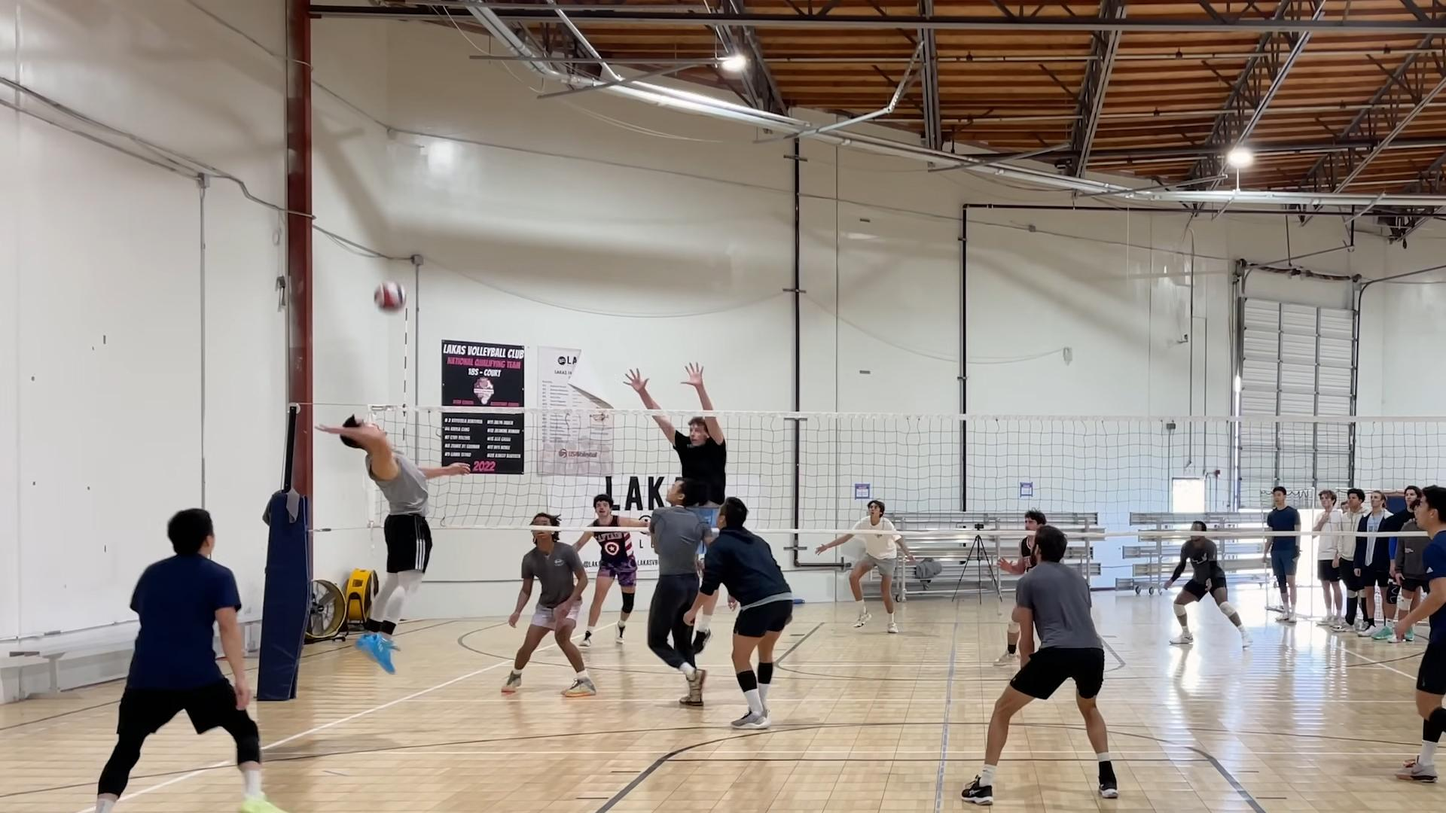Attack: (317, 414, 466, 674)
Block: (620, 359, 742, 542)
Player: (96, 510, 279, 812), (962, 525, 1118, 804), (688, 498, 792, 729), (502, 528, 596, 696), (1396, 486, 1445, 781), (648, 478, 709, 706), (816, 500, 914, 632), (574, 495, 647, 647), (1165, 520, 1250, 647), (998, 509, 1046, 575)
ball: (373, 279, 404, 308)
